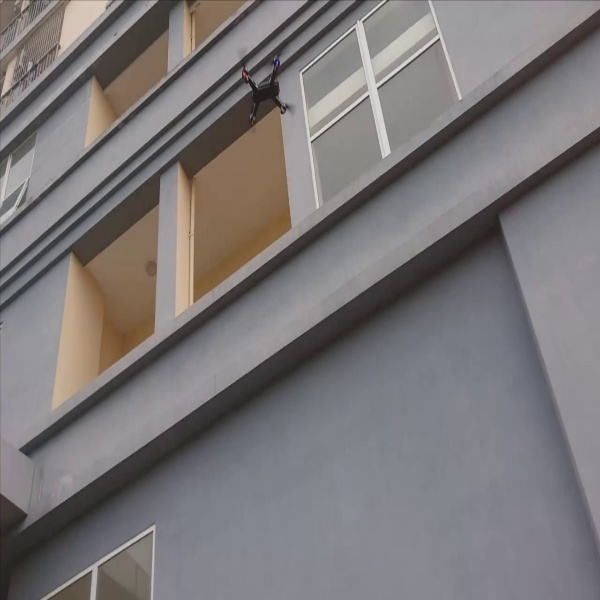drone: (230, 40, 299, 130)
